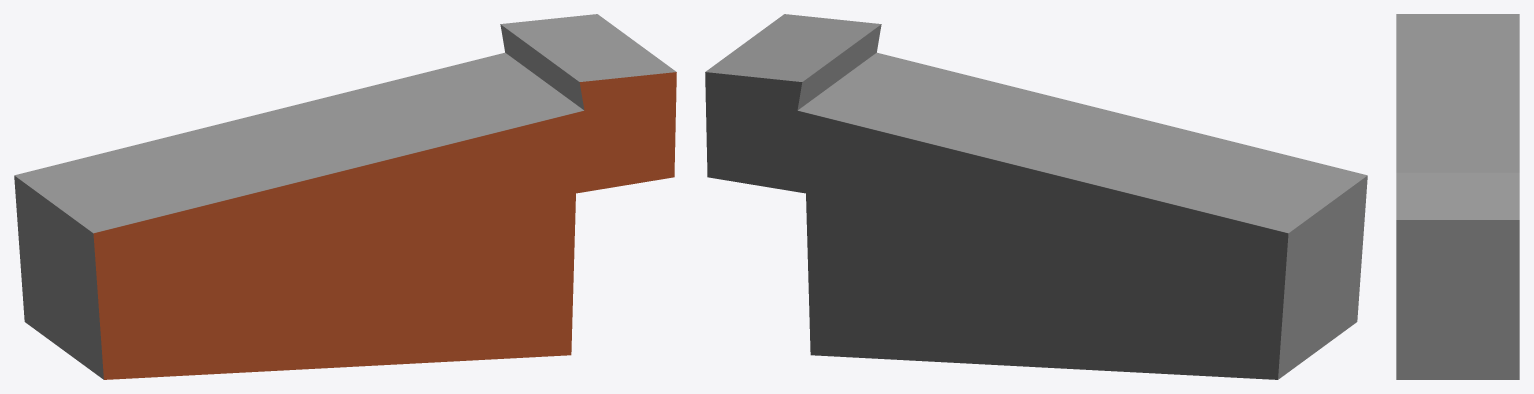
The model's file is construction_2443_assumed_A_Casa_h6m.obj.
3 views of the same model, side by side, from view 1: azimuth 30°, elevation 25°; view 2: azimuth 150°, elevation 25°; view 3: azimuth 270°, elevation 25° (orthographic). The views are drawn at different scales.
Parts seen in each view (by area): view 1: construction_2443_assumed_A_Casa; view 2: construction_2443_assumed_A_Casa; view 3: construction_2443_assumed_A_Casa.
Part boxes in pixels (left/top/right/bottom): construction_2443_assumed_A_Casa: left=14, top=14, right=676, bottom=379; construction_2443_assumed_A_Casa: left=705, top=14, right=1367, bottom=379; construction_2443_assumed_A_Casa: left=1396, top=14, right=1519, bottom=379.
Size of the model in its own units: 25.48 by 11.31 by 6.
